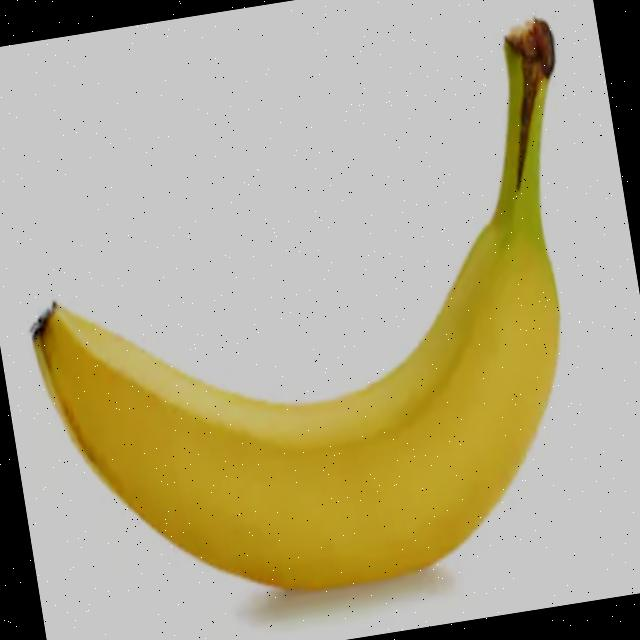banana: (0, 10, 633, 631)
